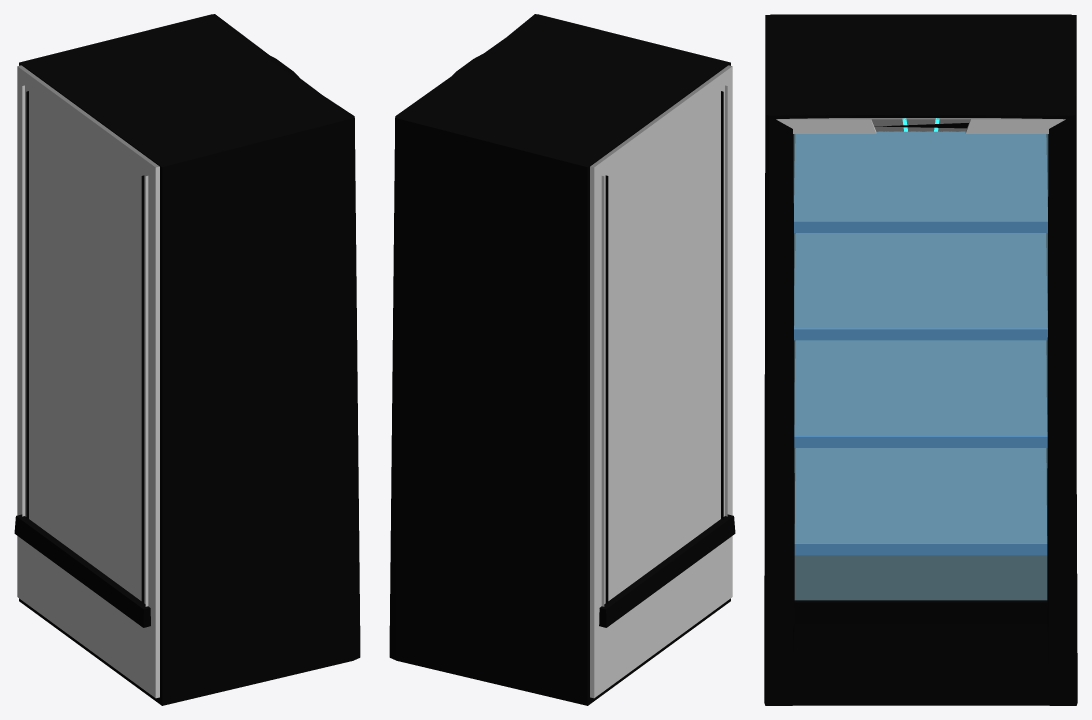
Rendered from Case 1.fbx.
3 renders of one model, left to right at view 1: azimuth 30°, elevation 25°; view 2: azimuth 150°, elevation 25°; view 3: azimuth 270°, elevation 25°, orthographic. The views are drawn at different scales.
Parts seen in each view (by area): view 1: Cube.004; view 2: Cube.004; view 3: Cube.004.
Part boxes in pixels (x1,y1,x2,y2): Cube.004: (14,14,360,705); Cube.004: (389,14,735,705); Cube.004: (764,14,1077,705).
Bounding box in the file's own units: 115 × 282 × 136.
